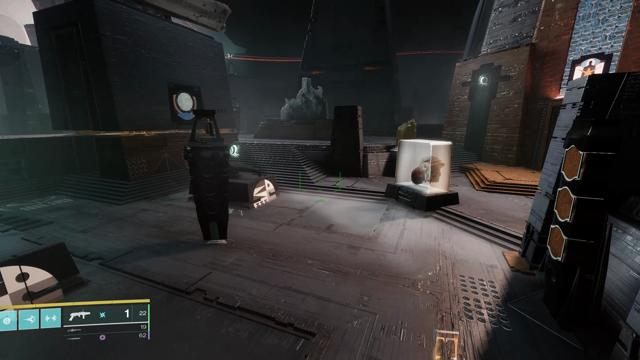traveler: (173, 90, 197, 121)
